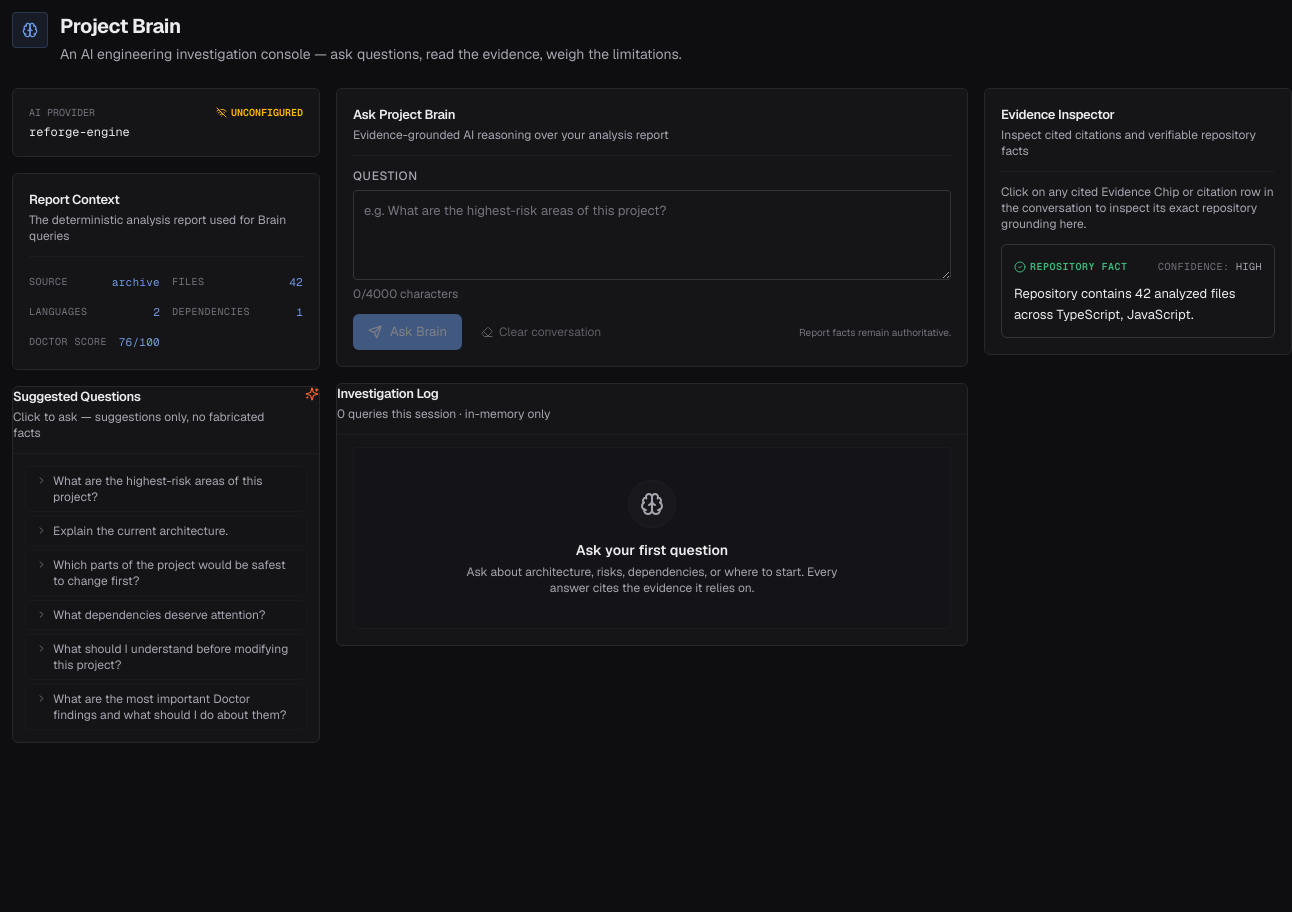
Scenario: Project Brain › shows a loading state while the query is in flight
The width and height of the screenshot is (1292, 912).
In the text box labelled "Question": (652, 235) [353, 190, 951, 280], type "Explain the current architecture"
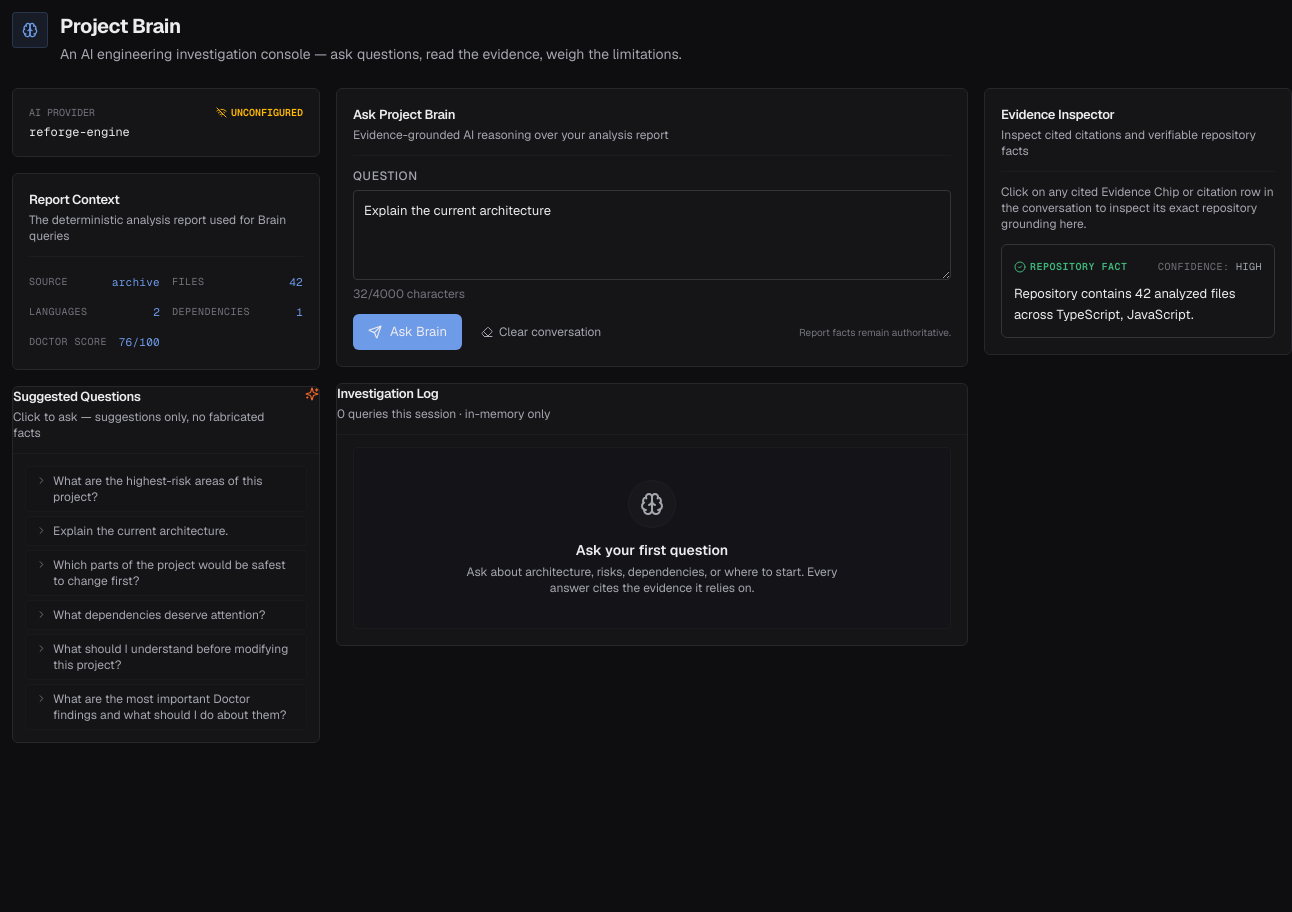
Click the button "Ask Brain": (408, 332) [353, 314, 462, 350]
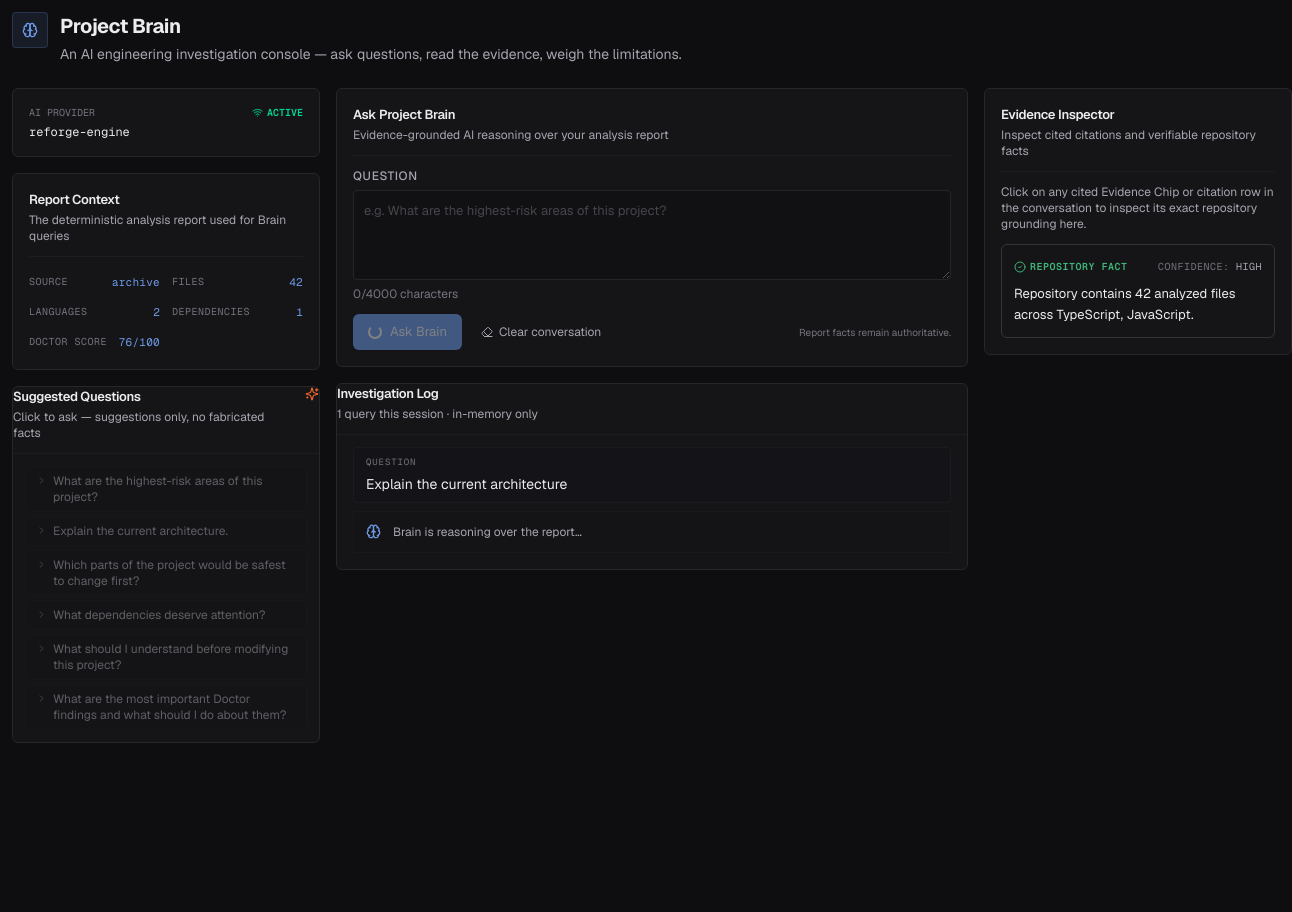
Now the text "Brain is reasoning over the report…" is shown, box [393, 524, 582, 540]
